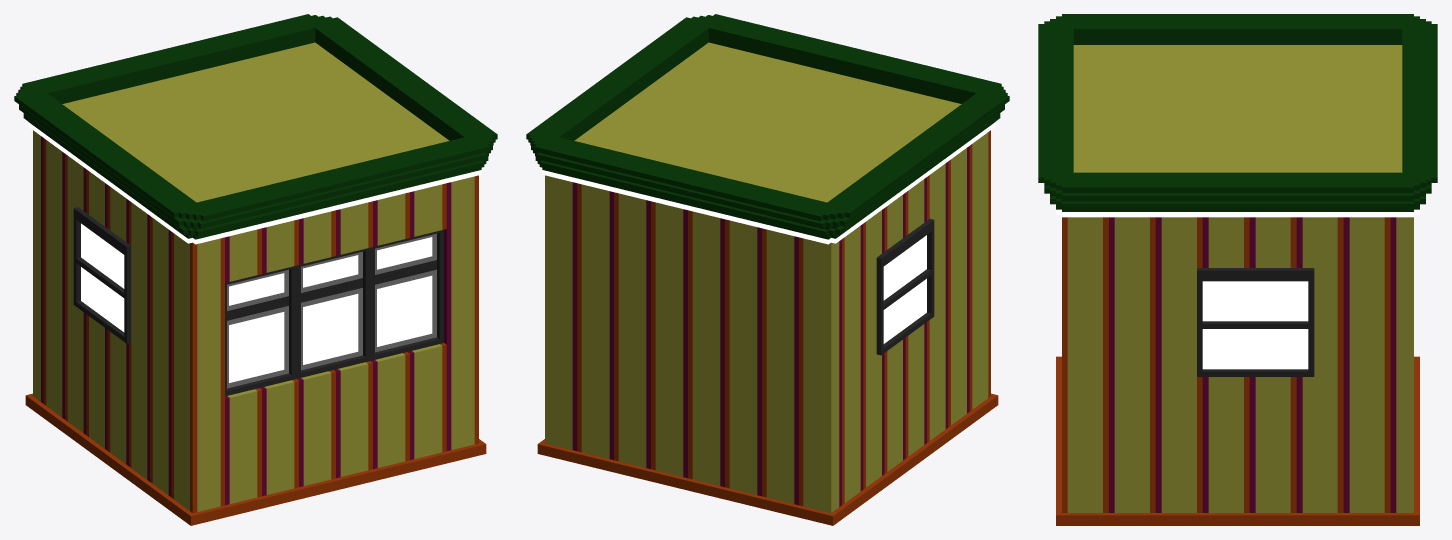
File: typeEleven.glb
3 renders of one model, left to right at view 1: azimuth 30°, elevation 25°; view 2: azimuth 150°, elevation 25°; view 3: azimuth 270°, elevation 25°, orthographic. The views are drawn at different scales.
Visible parts, largest first — view 1: ObjObject; view 2: ObjObject; view 3: ObjObject.
Part boxes in pixels (x1,y1,x2,y2): ObjObject: (14,14,497,525); ObjObject: (526,14,1009,525); ObjObject: (1038,14,1437,525).
Size of the model in its own units: 7 by 6.5 by 6.8.
Materials: 2 (1 with a texture image).
